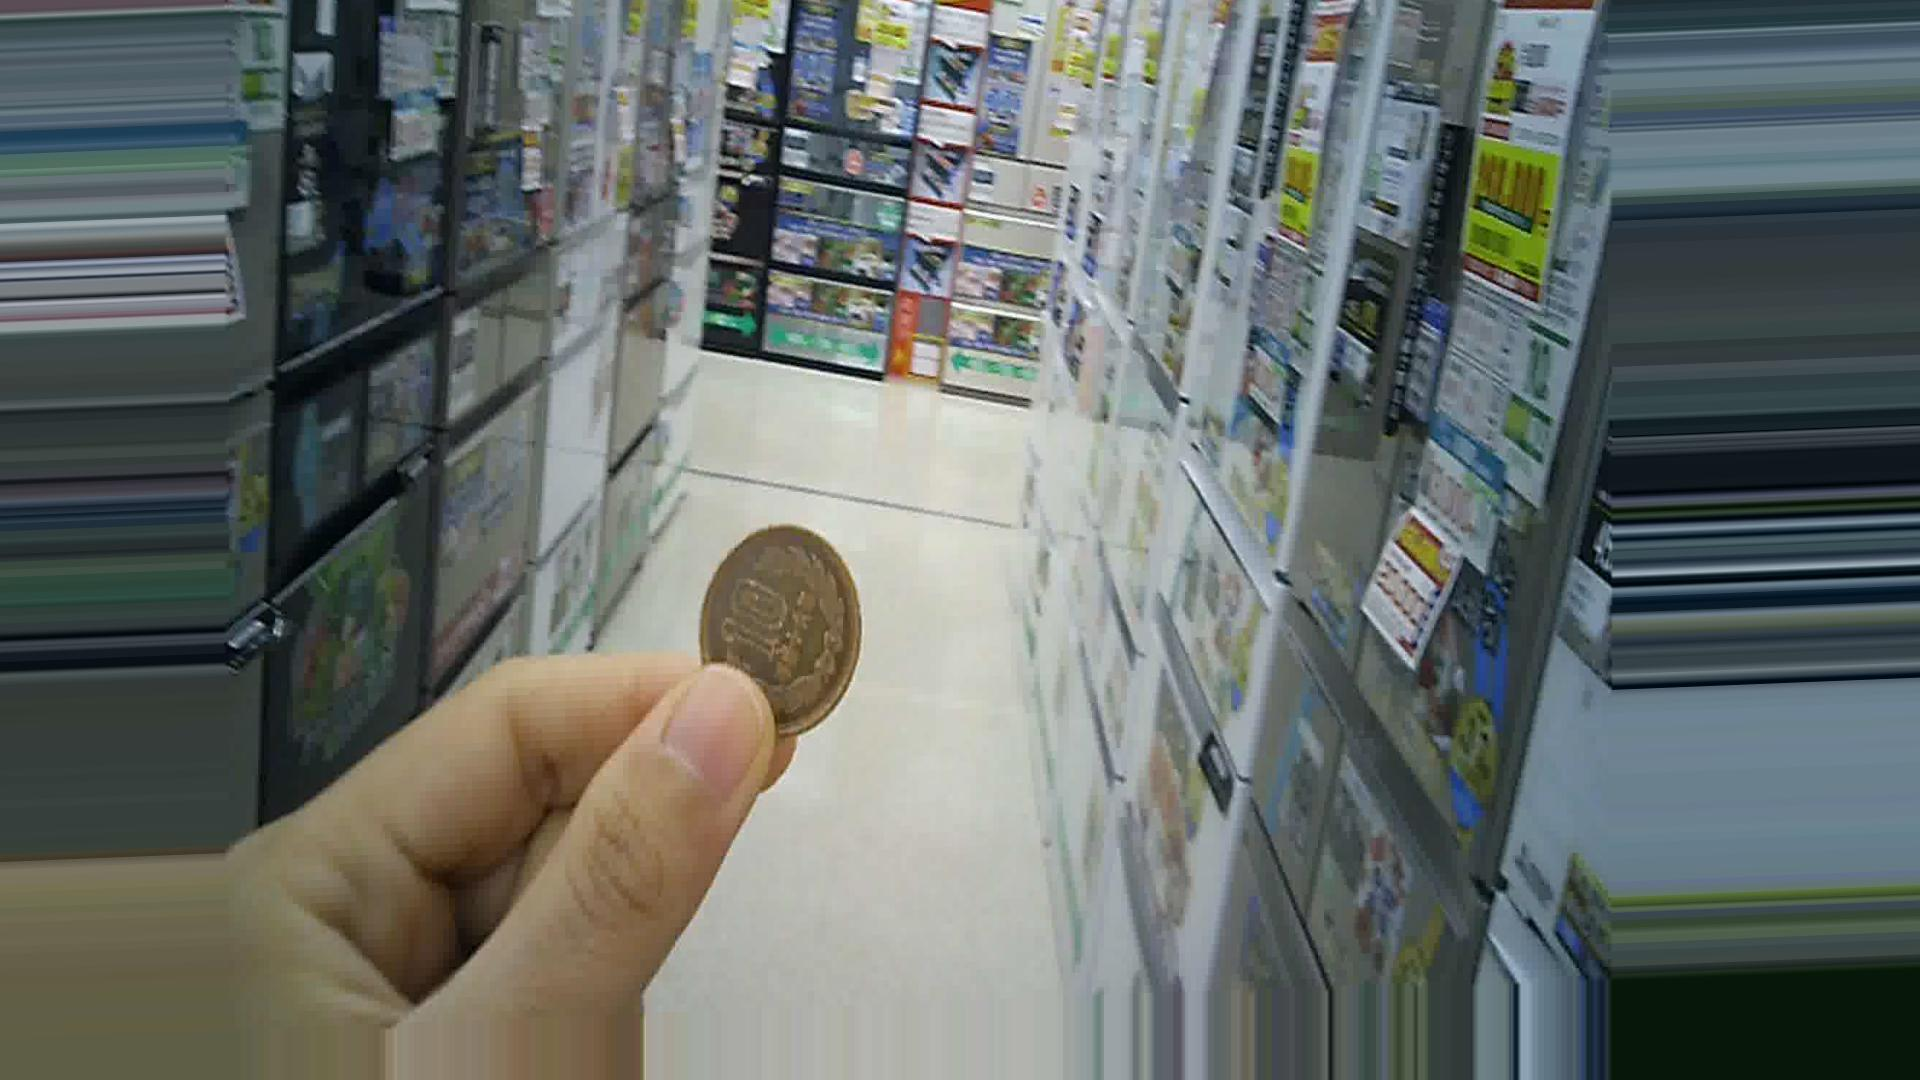10 Yen: (680, 512, 866, 736)
